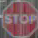Stop: (2, 3, 37, 30)
